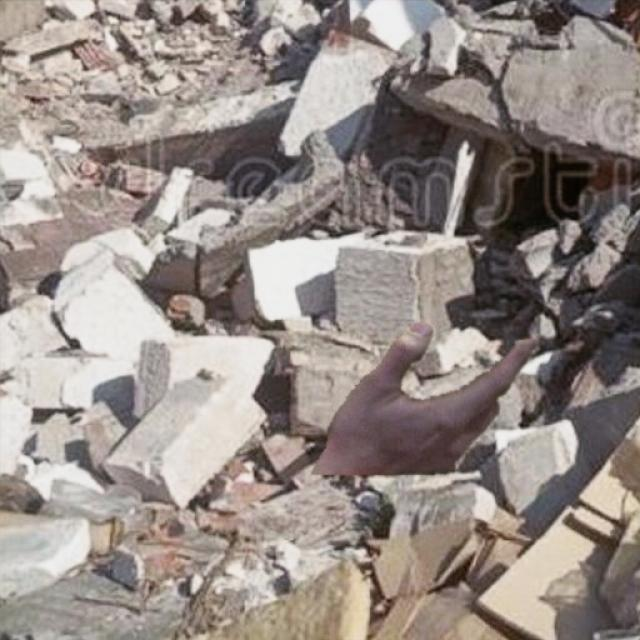Person in Rubble: (311, 321, 539, 474)
